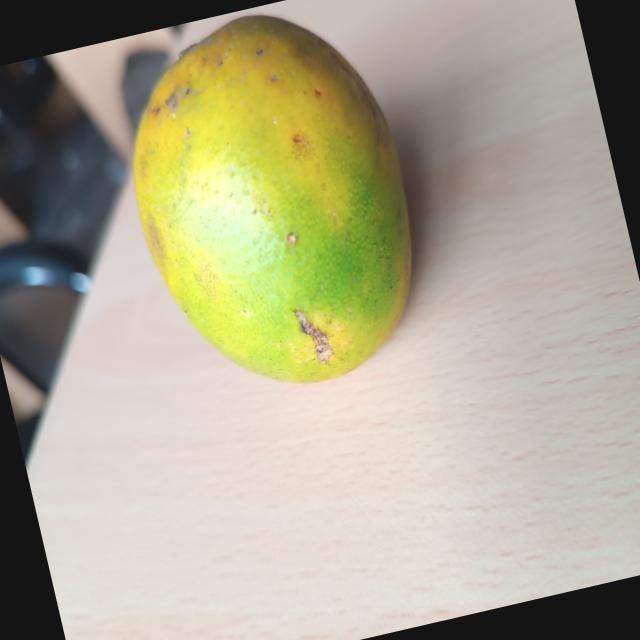agrume: (91, 0, 456, 414)
